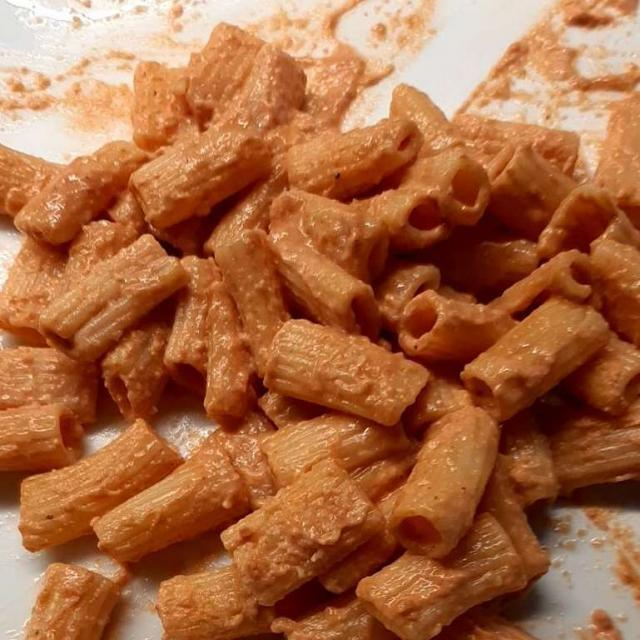pasta: (5, 10, 623, 627)
